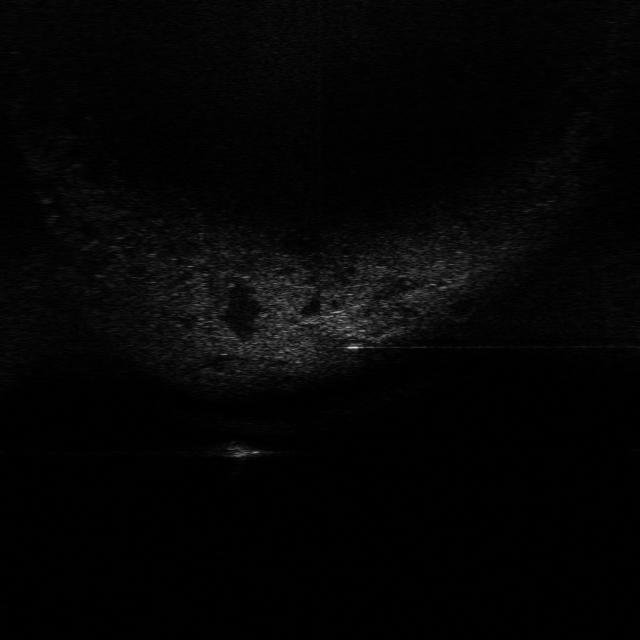cube: (211, 436, 268, 463)
